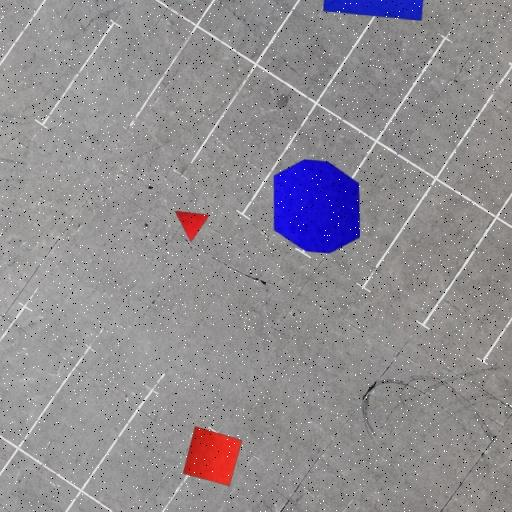RED_SQUARE: (182, 426, 242, 486)
